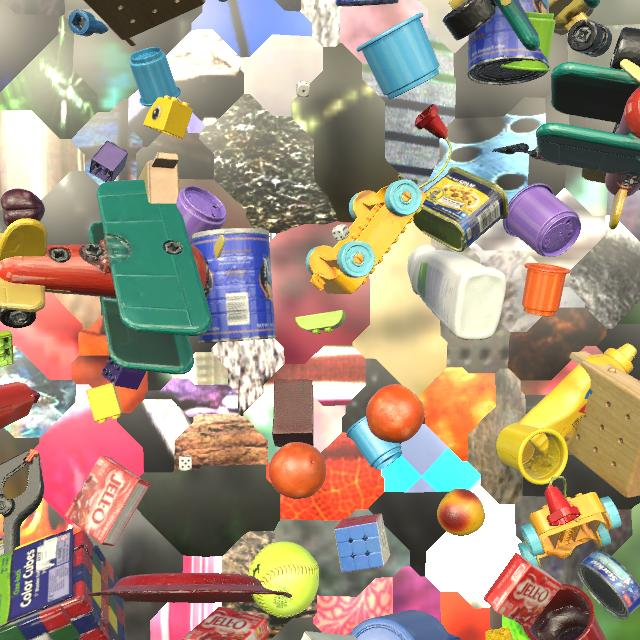ycb_002_master_chef_can: (192, 228, 276, 344), (467, 0, 549, 85)
ycb_004_sugar_box: (301, 631, 358, 640), (0, 537, 4, 556)
ycb_006_mustard_bottle: (518, 343, 637, 456)
ycb_007_tuna_fish_can: (576, 551, 640, 619), (336, 0, 399, 7)
ycb_009_gelatin_box: (64, 455, 150, 546), (483, 552, 562, 628), (182, 606, 269, 640)
ycb_010_potted_meat_can: (413, 166, 509, 252)
ycb_015_peach: (437, 488, 485, 536)
ycb_017_orange: (366, 384, 425, 443), (268, 442, 327, 499)
ycb_018_plum: (1, 189, 45, 227)
